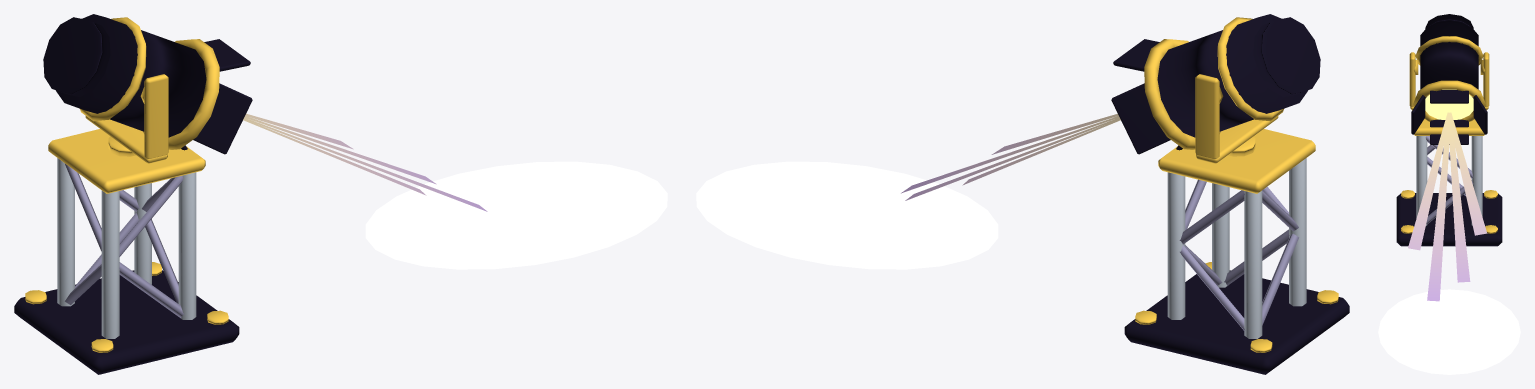
The model's file is stage_spotlight.glb.
The picture shows the model from 3 angles, left to right: view 1: azimuth 30°, elevation 25°; view 2: azimuth 150°, elevation 25°; view 3: azimuth 270°, elevation 25°; orthographic projection. The views are drawn at different scales.
Parts seen in each view (by area): view 1: Stand, Pool, Rays; view 2: Stand, Pool, Rays; view 3: Stand, Pool, Rays.
Part boxes in pixels (x1,y1,x2,y2): Stand: (14,14,252,374); Pool: (365,161,667,269); Rays: (243,113,487,211); Stand: (1111,14,1349,374); Pool: (696,161,998,269); Rays: (901,113,1120,200); Stand: (1396,14,1502,246); Pool: (1378,289,1520,374); Rays: (1408,112,1487,301).
Size of the model in its own units: 1.89 by 0.9559 by 0.62.
